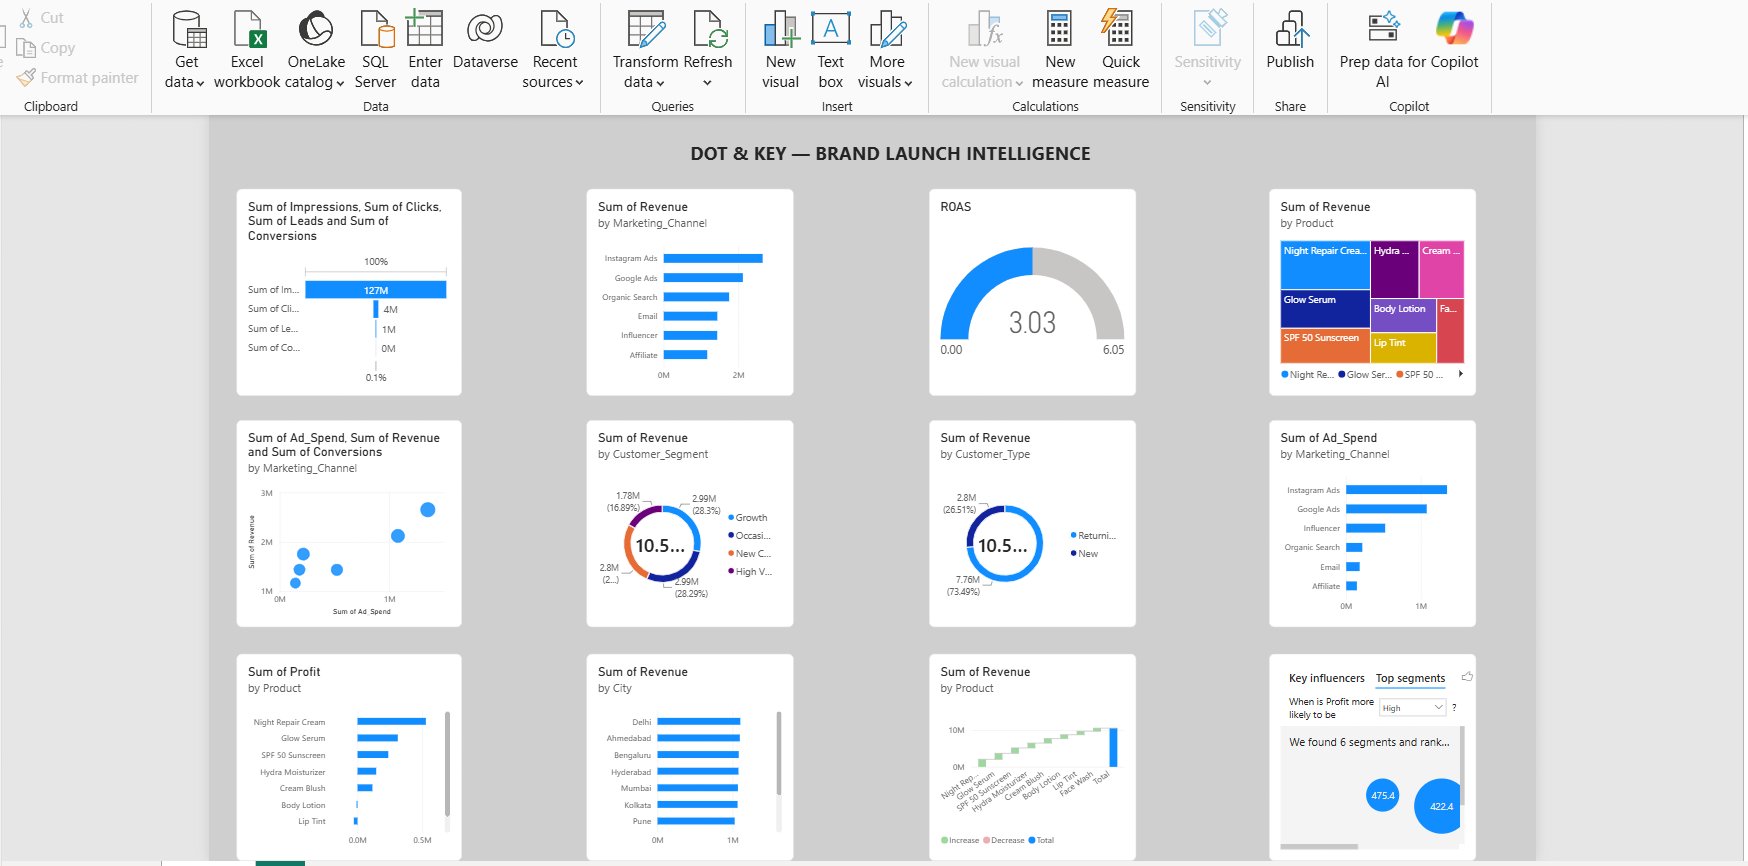

What the dashboard file says about the page in this screenshot:
{"tool":"powerbi","page":{"name":"Page 1","canvas":[1920,1080],"ordinal":0},"visuals":[{"type":"clusteredBarChart","fields":{"Category":["Dot & Key Data.Marketing_Channel"],"Y":["Sum(Dot & Key Data.Revenue)"]},"box":[546,106,300,300],"z":0},{"type":"clusteredBarChart","fields":{"Category":["Dot & Key Data.Product"],"Y":["Sum(Dot & Key Data.Profit)"]},"box":[40,780,326.7,300],"z":1},{"type":"donutChart","fields":{"Category":["Dot & Key Data.Customer_Segment"],"Y":["Sum(Dot & Key Data.Revenue)"]},"box":[546,442,300,300],"z":2},{"type":"funnel","fields":{"Y":["Sum(Dot & Key Data.Impressions)","Sum(Dot & Key Data.Clicks)","Sum(Dot & Key Data.Leads)","Sum(Dot & Key Data.Conversions)"]},"box":[40,106,326,300],"z":3},{"type":"clusteredBarChart","fields":{"Category":["Dot & Key Data.City"],"Y":["Sum(Dot & Key Data.Revenue)"]},"box":[546,780,300,300],"z":4},{"type":"donutChart","fields":{"Category":["Dot & Key Data.Customer_Type"],"Y":["Sum(Dot & Key Data.Revenue)"]},"box":[1042,442,300,300],"z":5},{"type":"clusteredBarChart","fields":{"Category":["Dot & Key Data.Marketing_Channel"],"Y":["Sum(Dot & Key Data.Ad_Spend)"]},"box":[1534,442,300,300],"z":6},{"type":"gauge","fields":{"Y":["Dot & Key Data.ROAS"]},"box":[1042,106,300,300],"z":7},{"type":"scatterChart","fields":{"Category":["Dot & Key Data.Marketing_Channel"],"Size":["Sum(Dot & Key Data.Conversions)"],"X":["Sum(Dot & Key Data.Ad_Spend)"],"Y":["Sum(Dot & Key Data.Revenue)"]},"box":[40,442,326.7,300],"z":8},{"type":"treemap","fields":{"Group":["Dot & Key Data.Product"],"Values":["Sum(Dot & Key Data.Revenue)"]},"box":[1534,106,300,300],"z":9},{"type":"waterfallChart","fields":{"Category":["Dot & Key Data.Product"],"Y":["Sum(Dot & Key Data.Revenue)"]},"box":[1042,780,300,300],"z":10},{"type":"keyDriversVisual","fields":{"ExplainBy":["Dot & Key Data.Marketing_Channel","Dot & Key Data.Campaign","Dot & Key Data.Product","Dot & Key Data.Customer_Type","Dot & Key Data.Customer_Segment","Dot & Key Data.City","Dot & Key Data.Gender","Sum(Dot & Key Data.Age)"],"Target":["Dot & Key Data.Profit"]},"box":[1534,780,300,300],"z":11},{"type":"textbox","box":[696,0,748,106],"z":12}]}

Visuals, with their boxes on the page's 1920x1080 design canvas (x1, y1, x2, y2). These are canvas units, not pixel positions in the 1748x866 screenshot, which may show the page scaled, cropped or inside an application window:
clusteredBarChart - Dot & Key Data.Marketing_Channel x Sum(Dot & Key Data.Revenue): 546:106:846:406
clusteredBarChart - Dot & Key Data.Product x Sum(Dot & Key Data.Profit): 40:780:367:1080
donutChart - Dot & Key Data.Customer_Segment x Sum(Dot & Key Data.Revenue): 546:442:846:742
funnel - Sum(Dot & Key Data.Impressions) x Sum(Dot & Key Data.Clicks): 40:106:366:406
clusteredBarChart - Dot & Key Data.City x Sum(Dot & Key Data.Revenue): 546:780:846:1080
donutChart - Dot & Key Data.Customer_Type x Sum(Dot & Key Data.Revenue): 1042:442:1342:742
clusteredBarChart - Dot & Key Data.Marketing_Channel x Sum(Dot & Key Data.Ad_Spend): 1534:442:1834:742
gauge - Dot & Key Data.ROAS: 1042:106:1342:406
scatterChart - Dot & Key Data.Marketing_Channel x Sum(Dot & Key Data.Conversions): 40:442:367:742
treemap - Dot & Key Data.Product x Sum(Dot & Key Data.Revenue): 1534:106:1834:406
waterfallChart - Dot & Key Data.Product x Sum(Dot & Key Data.Revenue): 1042:780:1342:1080
keyDriversVisual - Dot & Key Data.Marketing_Channel x Dot & Key Data.Campaign: 1534:780:1834:1080
textbox: 696:0:1444:106
